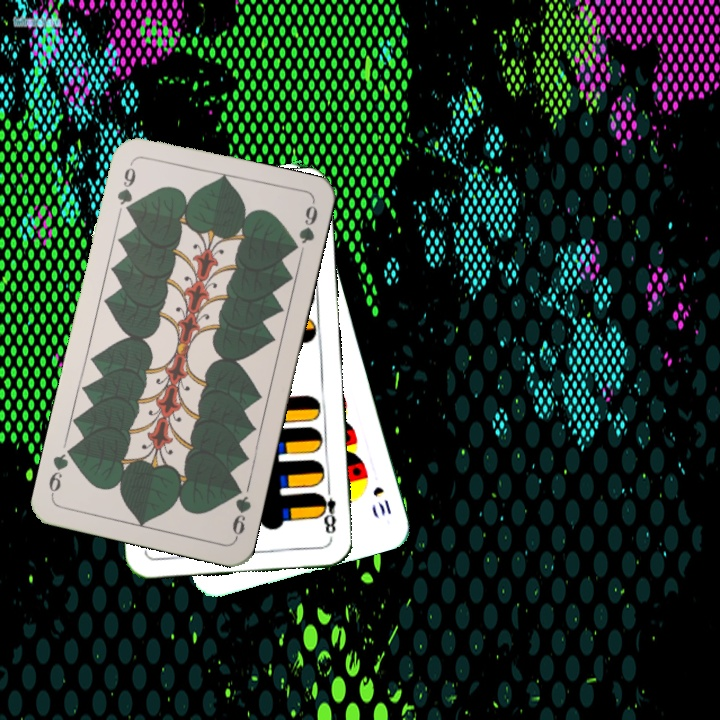E8: (314, 482, 339, 536)
G9: (228, 481, 254, 541), (113, 158, 139, 217)
S10: (369, 482, 394, 519)
